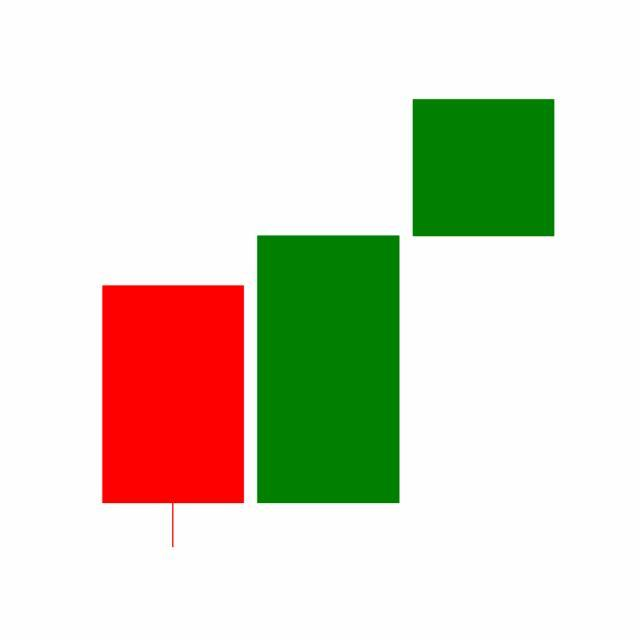Marubozu: (250, 233, 407, 506)
